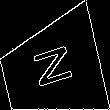N_W: (27, 44, 76, 96)
